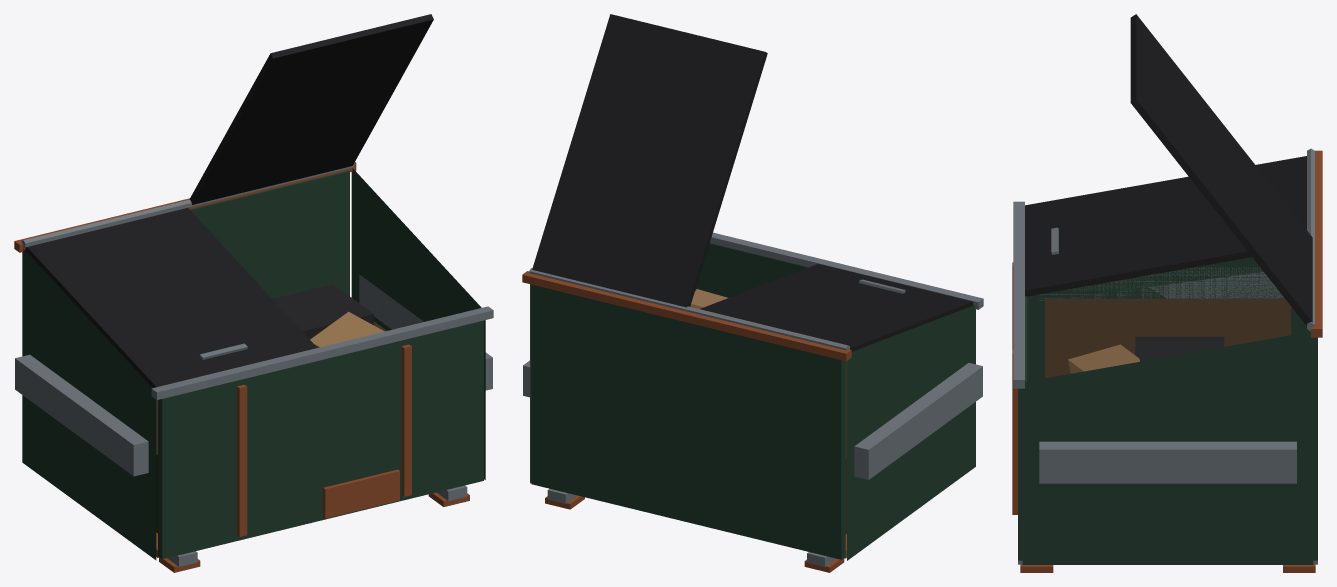
The model's file is dumpster.glb.
The picture shows the model from 3 angles, left to right: view 1: azimuth 30°, elevation 25°; view 2: azimuth 150°, elevation 25°; view 3: azimuth 270°, elevation 25°; orthographic projection. The views are drawn at different scales.
Visible parts, largest first — view 1: dumpster; view 2: dumpster; view 3: dumpster.
Boxes of the visible parts, x1,y1,x2,y2 form: dumpster: [14, 14, 493, 572]; dumpster: [522, 14, 983, 572]; dumpster: [1012, 14, 1322, 572].
Size of what is drawn, in the model's own units: 1.92 by 2.27 by 1.32.
Materials: 2 (2 with a texture image).
